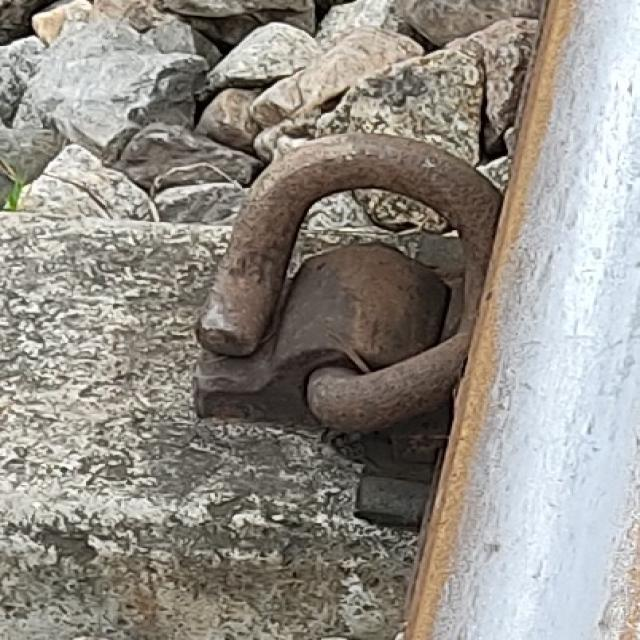track_bolt: (191, 128, 460, 440)
